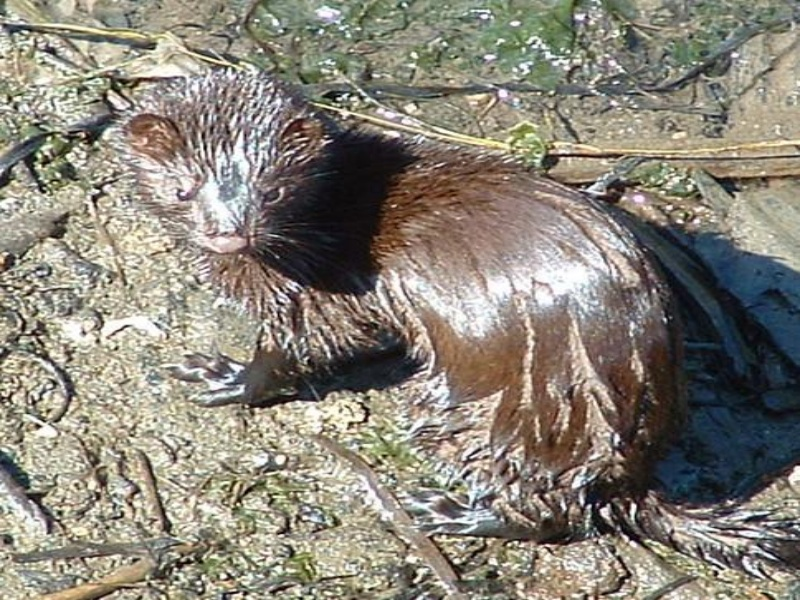minkish: (122, 64, 798, 570)
